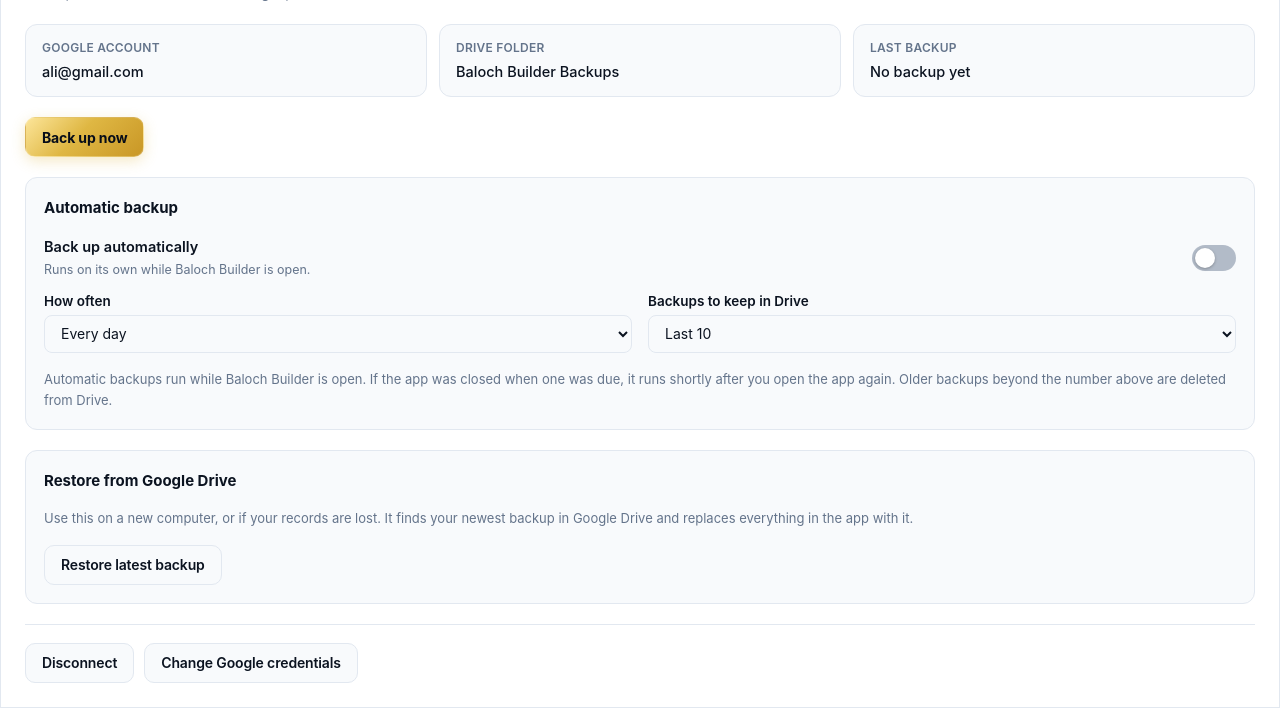
Test: restore from Google Drive › explains when there is no backup in Drive
(page scrolled)
Click the button "Restore latest backup".
click(133, 565)  # box [44,545,222,585]
(page scrolled)
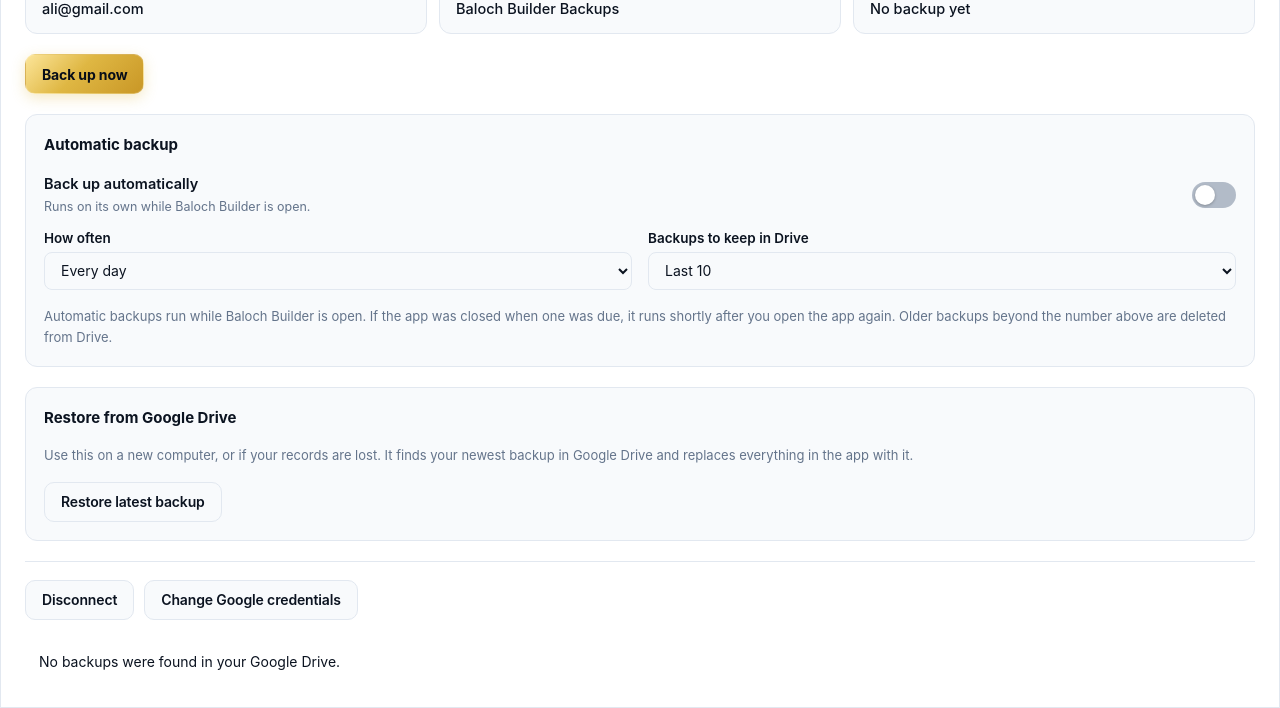
expect the message shows "No backups were found": met, box [39,653,340,670]
